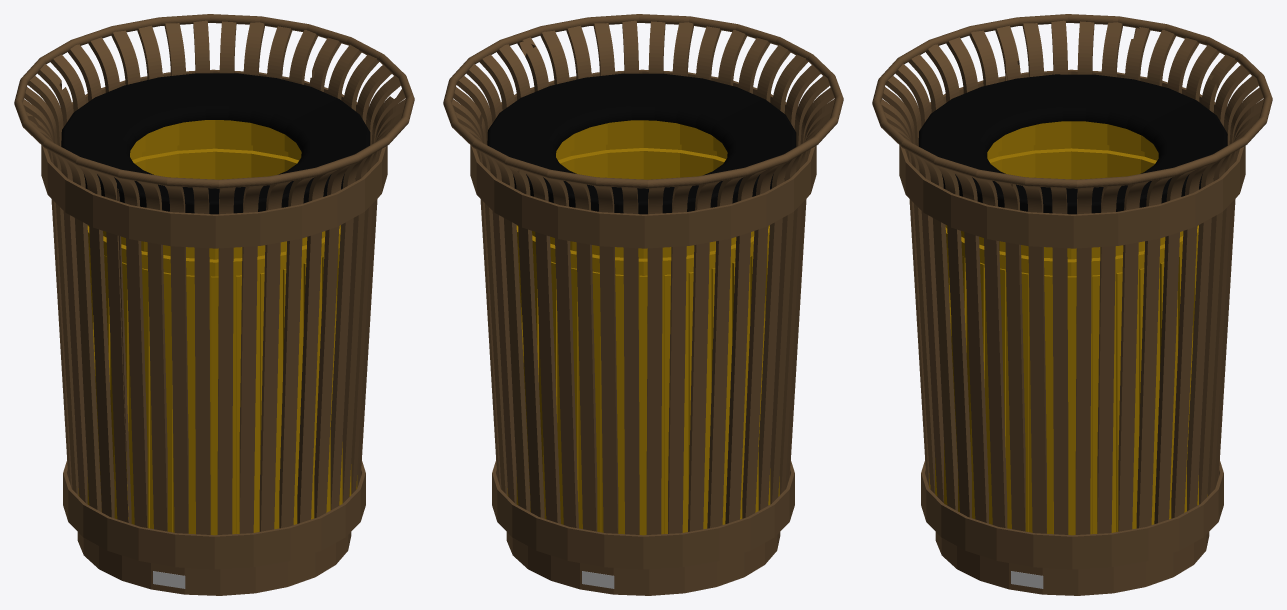
3 views of the same model, side by side, from view 1: azimuth 30°, elevation 25°; view 2: azimuth 150°, elevation 25°; view 3: azimuth 270°, elevation 25° (orthographic).
Visible parts, largest first — view 1: mesh1_mesh1-geometry, mesh81_mesh81-geometry, mesh128_mesh128-geometry, mesh123_mesh123-geometry, mesh137_mesh137-geometry, mesh118_mesh118-geometry, mesh142_mesh142-geometry, mesh166_mesh166-geometry, mesh144_mesh144-geometry, mesh140_mesh140-geometry, mesh150_mesh150-geometry, mesh168_mesh168-geometry (+42 smaller); view 2: mesh1_mesh1-geometry, mesh81_mesh81-geometry, mesh128_mesh128-geometry, mesh123_mesh123-geometry, mesh137_mesh137-geometry, mesh118_mesh118-geometry, mesh164_mesh164-geometry, mesh154_mesh154-geometry, mesh162_mesh162-geometry, mesh152_mesh152-geometry, mesh156_mesh156-geometry, mesh135_mesh135-geometry (+42 smaller); view 3: mesh1_mesh1-geometry, mesh81_mesh81-geometry, mesh128_mesh128-geometry, mesh123_mesh123-geometry, mesh137_mesh137-geometry, mesh118_mesh118-geometry, mesh194_mesh194-geometry, mesh106_mesh106-geometry, mesh192_mesh192-geometry, mesh196_mesh196-geometry, mesh108_mesh108-geometry, mesh102_mesh102-geometry (+41 smaller).
Boxes of the visible parts, x1,y1,x2,y2 form: mesh1_mesh1-geometry: (61, 73, 370, 214); mesh81_mesh81-geometry: (87, 120, 340, 534); mesh128_mesh128-geometry: (41, 69, 387, 248); mesh123_mesh123-geometry: (63, 460, 365, 569); mesh137_mesh137-geometry: (14, 14, 414, 188); mesh118_mesh118-geometry: (77, 532, 351, 595); mesh142_mesh142-geometry: (259, 181, 290, 531); mesh166_mesh166-geometry: (137, 181, 167, 531); mesh144_mesh144-geometry: (239, 185, 263, 533); mesh140_mesh140-geometry: (279, 177, 314, 528); mesh150_mesh150-geometry: (165, 186, 188, 533); mesh168_mesh168-geometry: (113, 176, 147, 527); mesh1_mesh1-geometry: (487, 73, 796, 214); mesh81_mesh81-geometry: (516, 120, 769, 534); mesh128_mesh128-geometry: (470, 69, 816, 248); mesh123_mesh123-geometry: (492, 460, 794, 569); mesh137_mesh137-geometry: (443, 14, 843, 188); mesh118_mesh118-geometry: (506, 532, 780, 595); mesh164_mesh164-geometry: (566, 181, 597, 531); mesh154_mesh154-geometry: (688, 181, 719, 531); mesh162_mesh162-geometry: (594, 186, 618, 533); mesh152_mesh152-geometry: (707, 177, 743, 528); mesh156_mesh156-geometry: (668, 185, 692, 533); mesh135_mesh135-geometry: (542, 176, 578, 528); mesh1_mesh1-geometry: (918, 74, 1227, 214); mesh81_mesh81-geometry: (945, 121, 1198, 534); mesh128_mesh128-geometry: (899, 69, 1245, 248); mesh123_mesh123-geometry: (921, 460, 1223, 569); mesh137_mesh137-geometry: (872, 14, 1272, 188); mesh118_mesh118-geometry: (935, 532, 1209, 595); mesh194_mesh194-geometry: (1118, 181, 1148, 531); mesh106_mesh106-geometry: (995, 181, 1025, 531); mesh192_mesh192-geometry: (1136, 177, 1172, 528); mesh196_mesh196-geometry: (1097, 185, 1121, 533); mesh108_mesh108-geometry: (971, 176, 1007, 528); mesh102_mesh102-geometry: (1023, 186, 1046, 533).
Bounding box in the file's own units: 0.5364 × 0.6516 × 0.5364.
